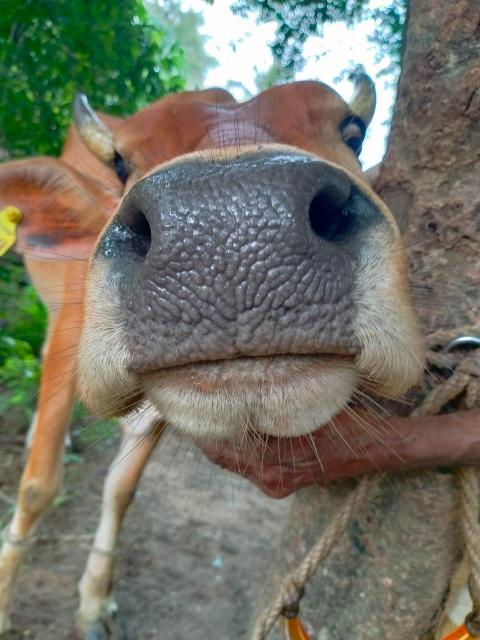Muzzle: (137, 172, 341, 360)
